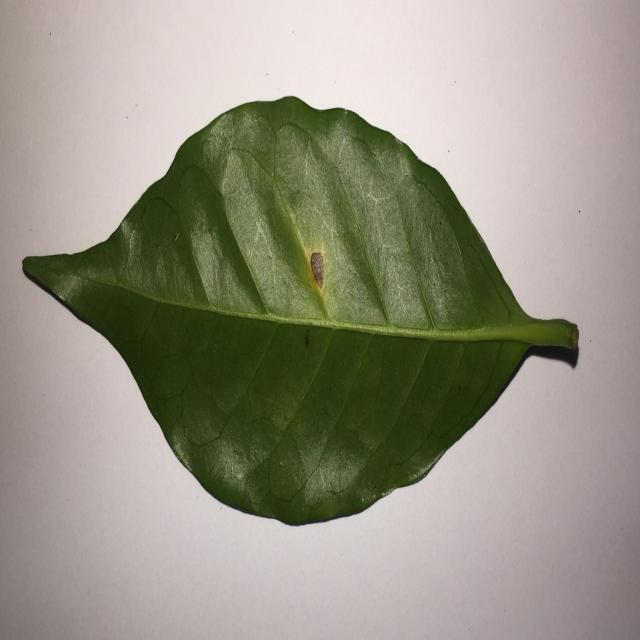Enfermedad-Mancha-de-hierro: (20, 95, 581, 529)
